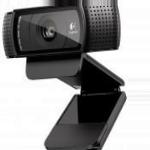webcam: (1, 1, 128, 65)
